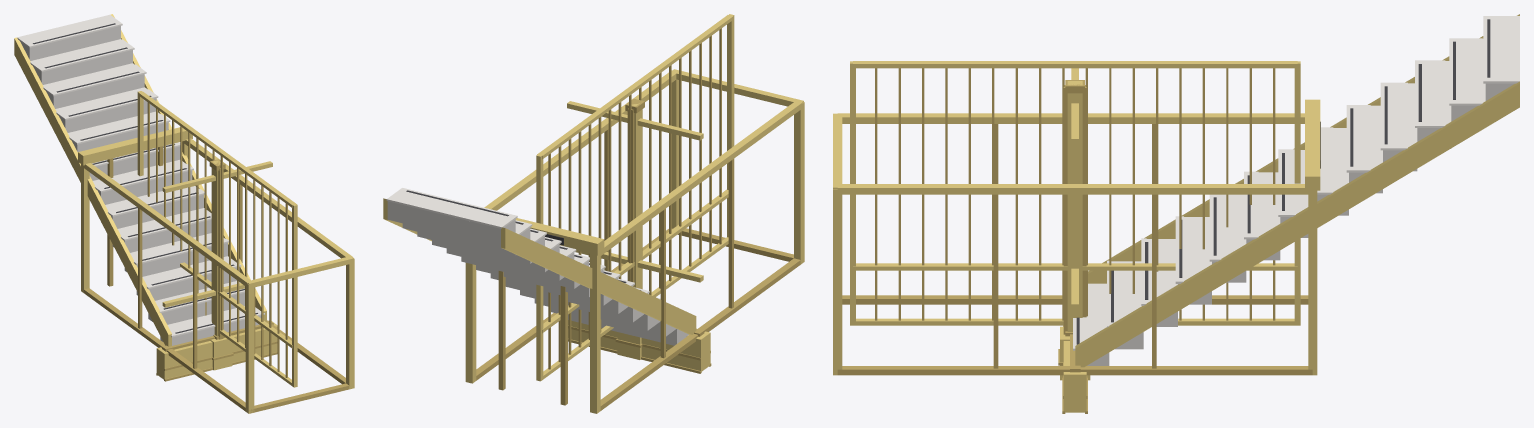
The model's file is tower_shell.glb.
3 renders of one model, left to right at view 1: azimuth 30°, elevation 25°; view 2: azimuth 150°, elevation 25°; view 3: azimuth 270°, elevation 25°, orthographic. The views are drawn at different scales.
Parts seen in each view (by area): view 1: dw_flight_mesh, dw_vest_mesh, dw_srail_mesh, dw_band_mesh, dw_mullion_mesh, dw_bay_mesh, dw_corner_mesh; view 2: dw_vest_mesh, dw_flight_mesh, dw_srail_mesh, dw_mullion_mesh, dw_band_mesh, dw_bay_mesh, dw_corner_mesh; view 3: dw_flight_mesh, dw_vest_mesh, dw_srail_mesh, dw_mullion_mesh, dw_band_mesh, dw_bay_mesh.
Boxes of the visible parts, bbox=[...] form: dw_flight_mesh: bbox=[14, 14, 266, 346]; dw_vest_mesh: bbox=[78, 127, 354, 413]; dw_srail_mesh: bbox=[137, 91, 297, 387]; dw_band_mesh: bbox=[156, 321, 277, 381]; dw_mullion_mesh: bbox=[209, 159, 225, 339]; dw_bay_mesh: bbox=[162, 161, 273, 351]; dw_corner_mesh: bbox=[210, 337, 233, 370]; dw_vest_mesh: bbox=[465, 69, 804, 413]; dw_flight_mesh: bbox=[383, 188, 696, 345]; dw_srail_mesh: bbox=[536, 14, 734, 381]; dw_mullion_mesh: bbox=[625, 98, 644, 289]; dw_band_mesh: bbox=[568, 320, 711, 373]; dw_bay_mesh: bbox=[567, 101, 704, 336]; dw_corner_mesh: bbox=[615, 332, 642, 359]; dw_flight_mesh: bbox=[1073, 14, 1519, 367]; dw_vest_mesh: bbox=[833, 99, 1320, 375]; dw_srail_mesh: bbox=[850, 61, 1300, 325]; dw_mullion_mesh: bbox=[1063, 80, 1086, 336]; dw_band_mesh: bbox=[1062, 325, 1087, 413]; dw_bay_mesh: bbox=[1070, 68, 1080, 372].
Size of the model in its own units: 2.5 by 4.73 by 9.03.
